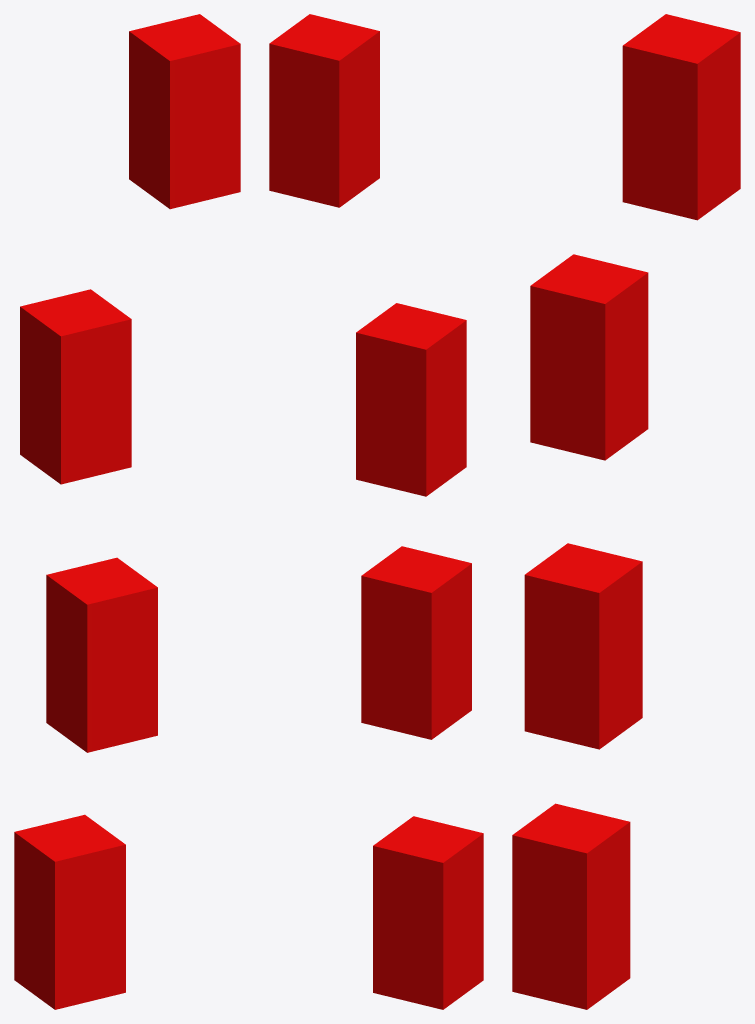
The model's file is M11_Enemies.fbx.
The picture shows the model from 3 angles, left to right: view 1: azimuth 30°, elevation 25°; view 2: azimuth 150°, elevation 25°; view 3: azimuth 330°, elevation 25°; orthographic projection. The views are drawn at different scales.
Visible parts, largest first — view 1: Enemy3, Enemy1, Enemy2, Enemy4; view 2: Enemy3, Enemy1, Enemy4, Enemy2; view 3: Enemy1, Enemy2, Enemy4, Enemy3.
Boxes of the visible parts, x1,y1,x2,y2 form: Enemy3: (20, 289, 131, 484); Enemy1: (14, 814, 125, 1009); Enemy2: (46, 557, 157, 752); Enemy4: (129, 14, 240, 209); Enemy3: (356, 303, 466, 496); Enemy1: (373, 816, 483, 1009); Enemy4: (269, 14, 379, 207); Enemy2: (361, 546, 471, 739); Enemy1: (512, 803, 630, 1009); Enemy2: (524, 543, 642, 749); Enemy4: (622, 14, 740, 220); Enemy3: (530, 254, 648, 460).
Size of what is drawn, in the model's own units: 5.1 by 25 by 2.78.
